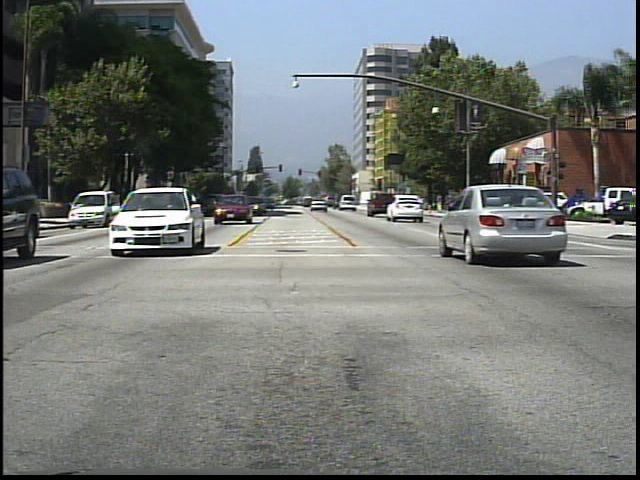person: (468, 191, 480, 221), (435, 191, 447, 214)
